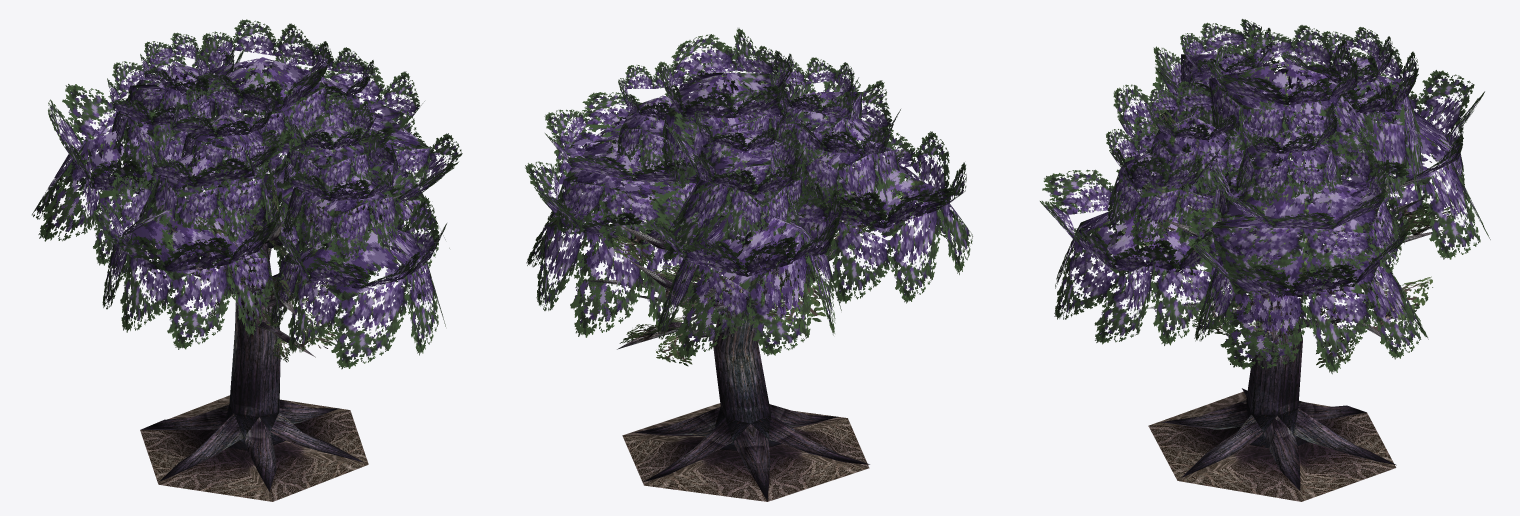
File: TREE_PURPLEFLOWERS_PSX.glb
3 renders of one model, left to right at view 1: azimuth 30°, elevation 25°; view 2: azimuth 150°, elevation 25°; view 3: azimuth 270°, elevation 25°, orthographic. The views are drawn at different scales.
Parts seen in each view (by area): view 1: quaresmeira tree 5 novo alpha reduzido; view 2: quaresmeira tree 5 novo alpha reduzido; view 3: quaresmeira tree 5 novo alpha reduzido.
Boxes of the visible parts, bbox=[...] form: quaresmeira tree 5 novo alpha reduzido: bbox=[32, 19, 462, 501]; quaresmeira tree 5 novo alpha reduzido: bbox=[525, 28, 972, 501]; quaresmeira tree 5 novo alpha reduzido: bbox=[1040, 19, 1490, 501].
Size of the model in its own units: 23.86 by 22.41 by 23.97.
1 material, 1 textured.
